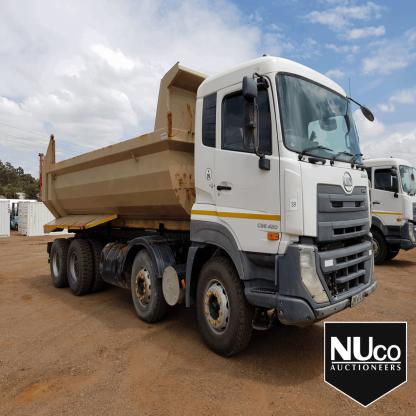dump_truck: (28, 59, 381, 357)
